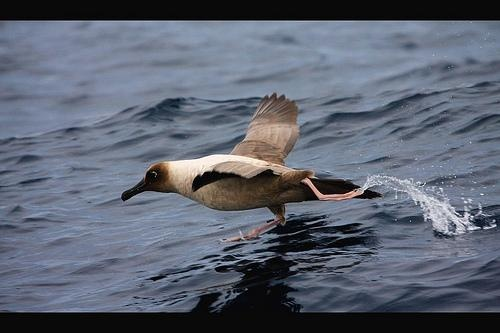bird: (116, 93, 373, 247)
